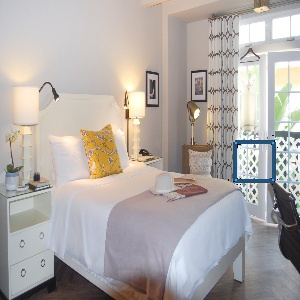square: (230, 139, 278, 183)
